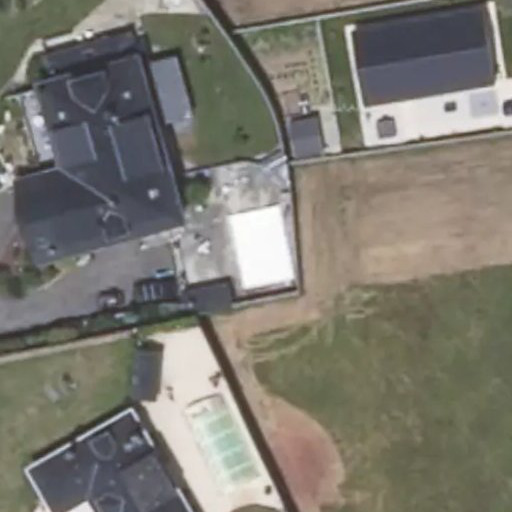pool: (221, 208, 290, 275)
